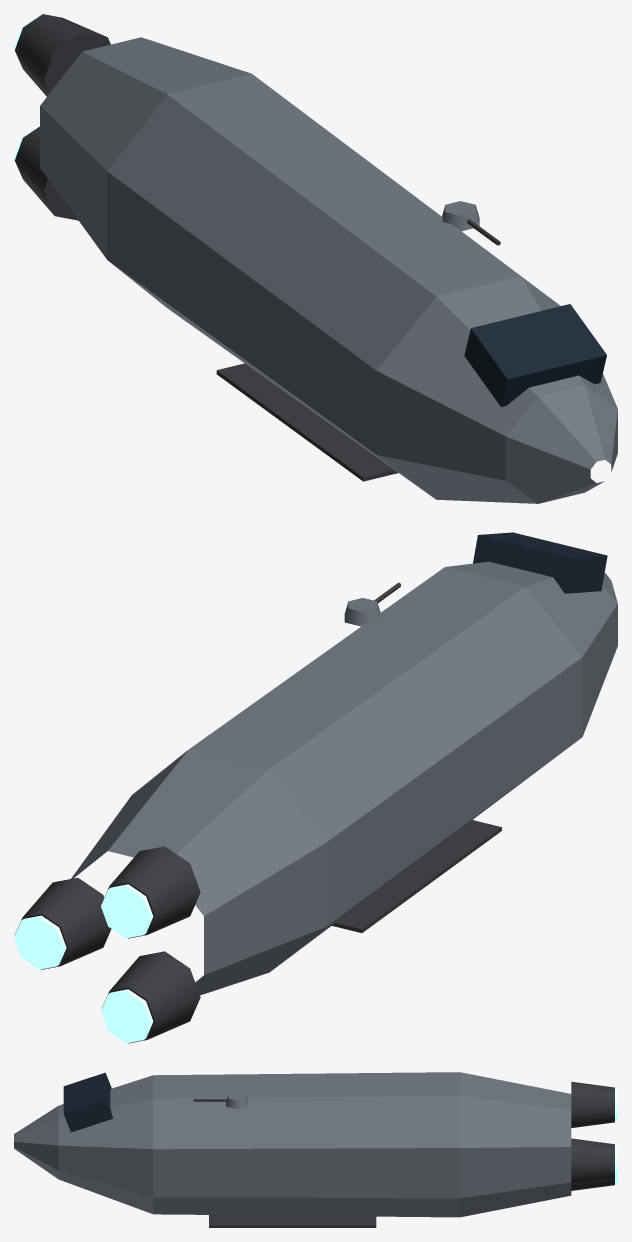
Rendered from space_ship_transport_mk3.glb.
The picture shows the model from 3 angles, top to bottom: view 1: azimuth 30°, elevation 25°; view 2: azimuth 150°, elevation 25°; view 3: azimuth 270°, elevation 25°; orthographic projection. The views are drawn at different scales.
Visible parts, largest first — view 1: body, hangar_door, engine_1, engine_2, turret_0; view 2: body, engine_1, engine_2, engine_0, hangar_door, turret_0; view 3: body, hangar_door, engine_1, engine_0, turret_0, engine_2.
Boxes of the visible parts, left/top/right/bottom form: body: left=40, top=37, right=617, bottom=503; hangar_door: left=216, top=363, right=397, bottom=481; engine_1: left=14, top=14, right=110, bottom=96; engine_2: left=14, top=125, right=78, bottom=220; turret_0: left=442, top=201, right=500, bottom=245; body: left=71, top=532, right=617, bottom=995; engine_1: left=101, top=846, right=200, bottom=938; engine_2: left=101, top=951, right=200, bottom=1043; engine_0: left=14, top=877, right=111, bottom=969; hangar_door: left=332, top=820, right=501, bottom=932; turret_0: left=344, top=582, right=400, bottom=626; body: left=14, top=1072, right=571, bottom=1217; hangar_door: left=209, top=1215, right=376, bottom=1227; engine_1: left=571, top=1081, right=617, bottom=1127; engine_0: left=571, top=1138, right=617, bottom=1184; turret_0: left=193, top=1092, right=247, bottom=1109; engine_2: left=571, top=1178, right=617, bottom=1190.
Size of what is drawn, in the model's own units: 5.38 by 5.68 by 24.19.
